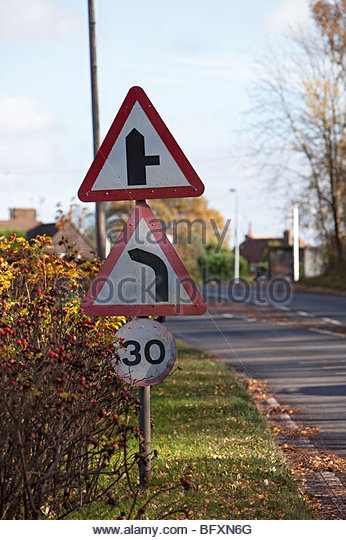Bend_to_left: (80, 205, 208, 319)
